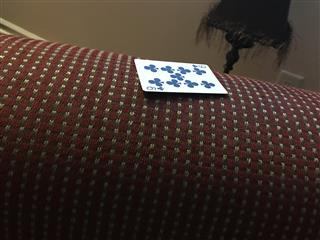NineOfClubs: (133, 58, 227, 94)
